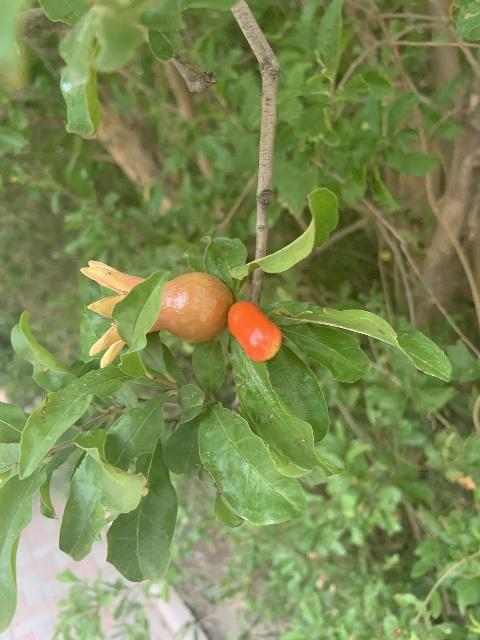bud: (227, 300, 281, 362)
early-fruit: (80, 260, 233, 367)
